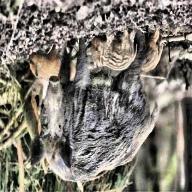boar: (28, 24, 172, 185)
